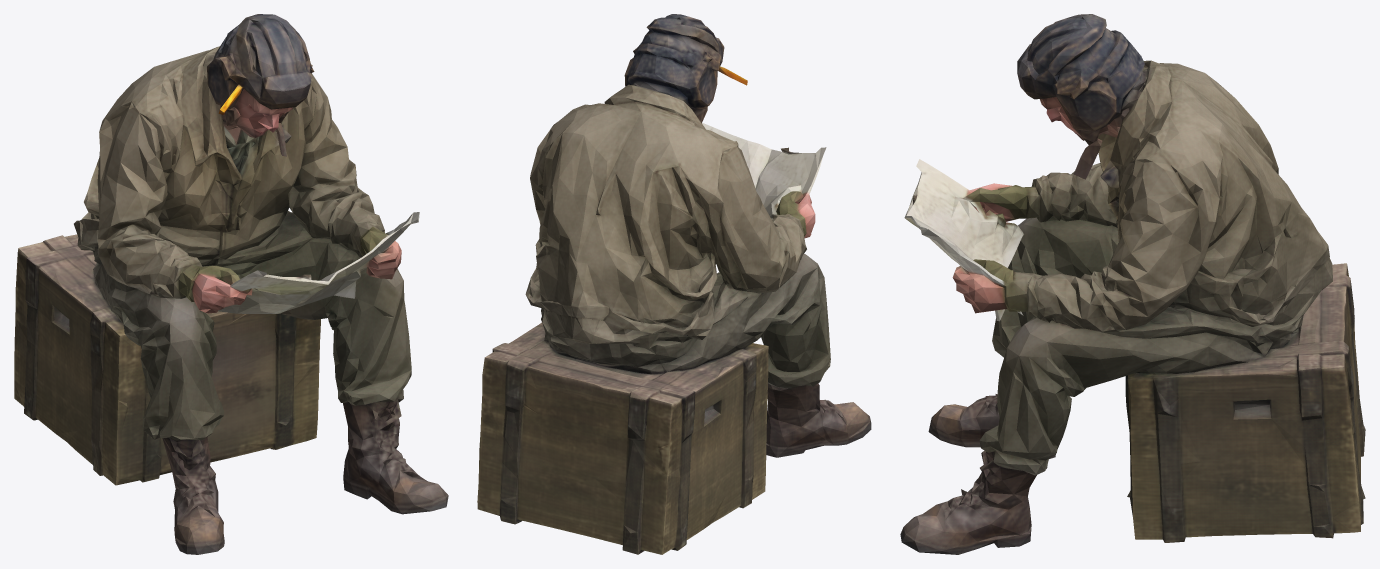
File: crew_us_map.obj
3 views of the same model, side by side, from view 1: azimuth 30°, elevation 25°; view 2: azimuth 150°, elevation 25°; view 3: azimuth 270°, elevation 25° (orthographic). The views are drawn at different scales.
Parts seen in each view (by area): view 1: crew_us_map; view 2: crew_us_map; view 3: crew_us_map.
Part boxes in pixels (bbox=[...]): crew_us_map: bbox=[14, 14, 448, 554]; crew_us_map: bbox=[477, 14, 871, 554]; crew_us_map: bbox=[900, 14, 1365, 554].
Size of the model in its own units: 0.8562 by 1.45 by 1.25.
1 material, 1 textured.
